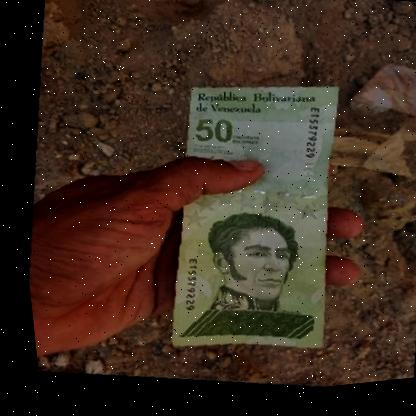fifty-front-vef: (142, 76, 359, 366)
